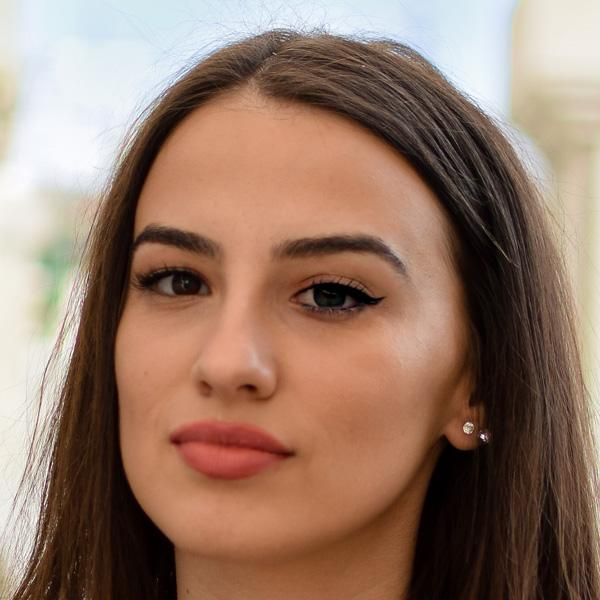Eyes: (278, 264, 389, 333), (129, 252, 215, 314)
